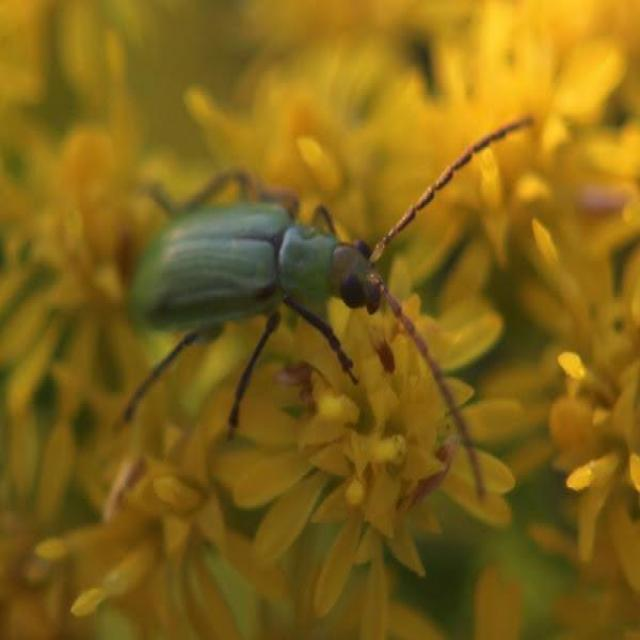gusano_gris: (117, 118, 532, 500)
